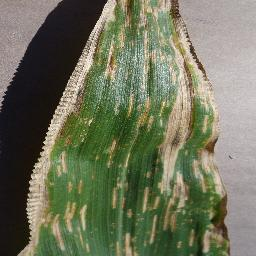Gray_Leaf_Spot: (17, 0, 231, 256)
